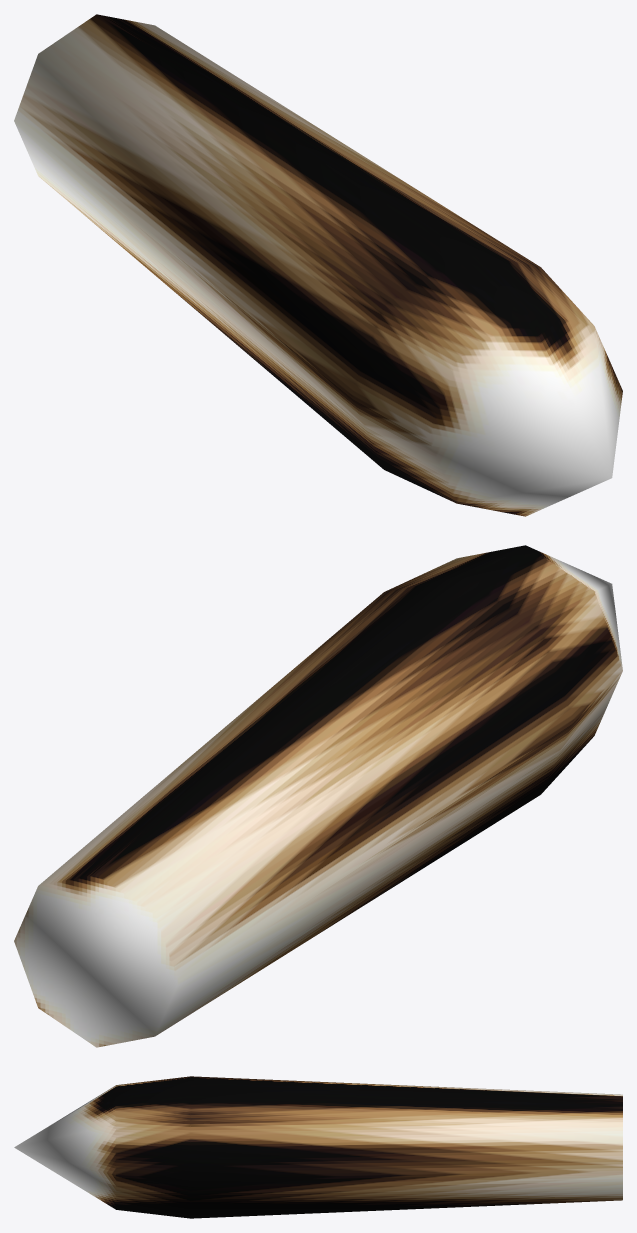
The model's file is SM_MuzzleFire_02.fbx.
3 renders of one model, top to bottom at view 1: azimuth 30°, elevation 25°; view 2: azimuth 150°, elevation 25°; view 3: azimuth 270°, elevation 25°, orthographic. The views are drawn at different scales.
Visible parts, largest first — view 1: SM_MuzzleFire_02; view 2: SM_MuzzleFire_02; view 3: SM_MuzzleFire_02.
Part boxes in pixels (box(x1,y1,x2,y2)): SM_MuzzleFire_02: box(14, 14, 622, 516); SM_MuzzleFire_02: box(14, 545, 622, 1047); SM_MuzzleFire_02: box(14, 1076, 622, 1218).
Bounding box in the file's own units: 20.04 × 20.04 × 80.62.
